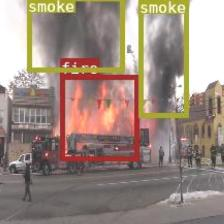fire: (60, 74, 138, 160)
smoke: (26, 0, 123, 71), (138, 0, 188, 117)
